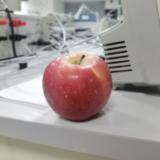apple: (42, 54, 113, 122)
